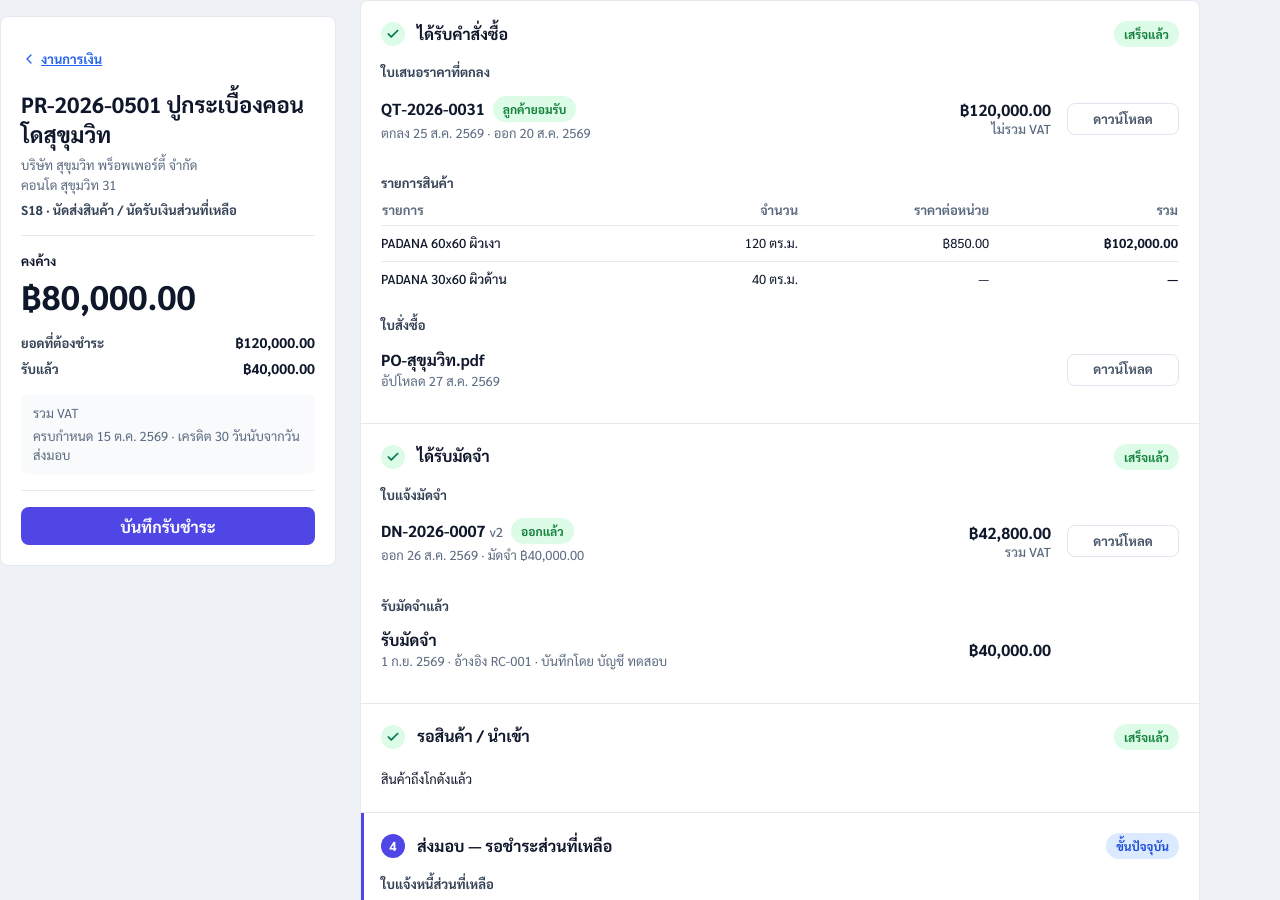
Test: FinanceDealPage › money actions › RECORD_PAYMENT submits the right body to api.finance.recordPayment and the view updates from the returned deal
Step 1. Click the button "บันทึกรับชำระ" → (168, 526), box [21, 507, 315, 545]
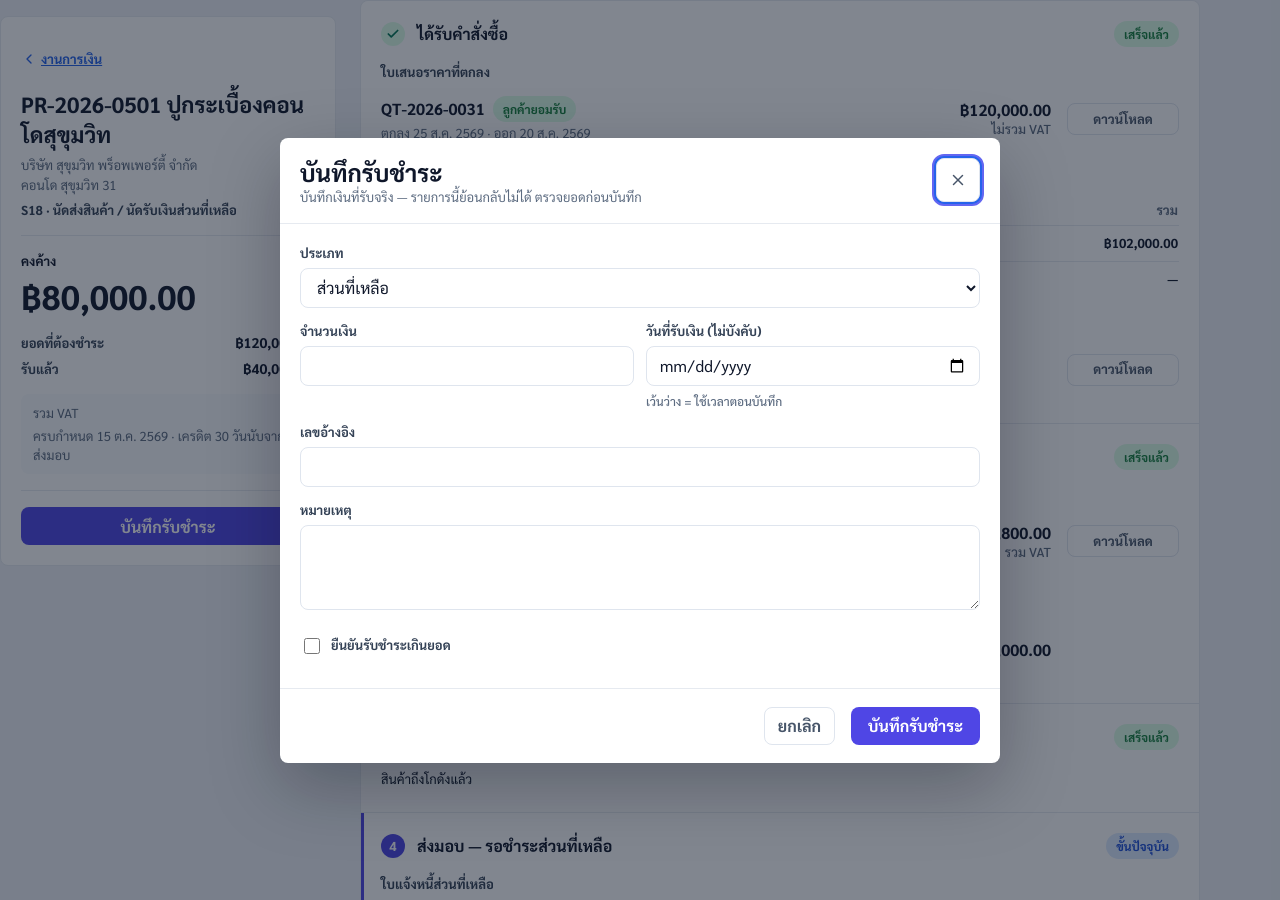
Step 2. Select "ส่วนที่เหลือ" in the dropdown labelled "ประเภท" → (640, 288), box [300, 268, 980, 308]
Step 3. Type "60000" into the number field labelled "จำนวนเงิน" → (467, 366), box [300, 346, 634, 386]
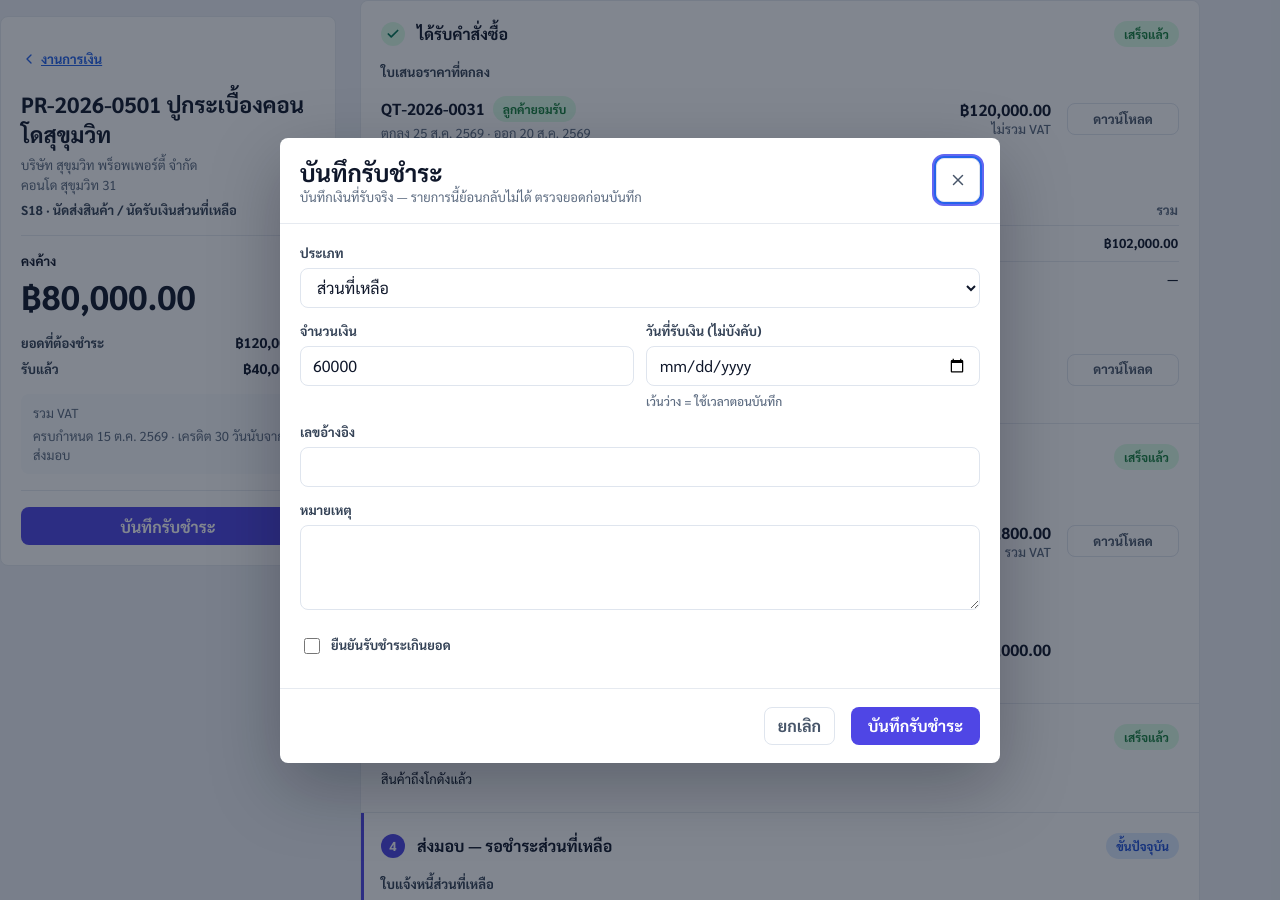
Step 4. Type " RC-999 " into the field labelled "เลขอ้างอิง" → (640, 466), box [300, 446, 980, 486]
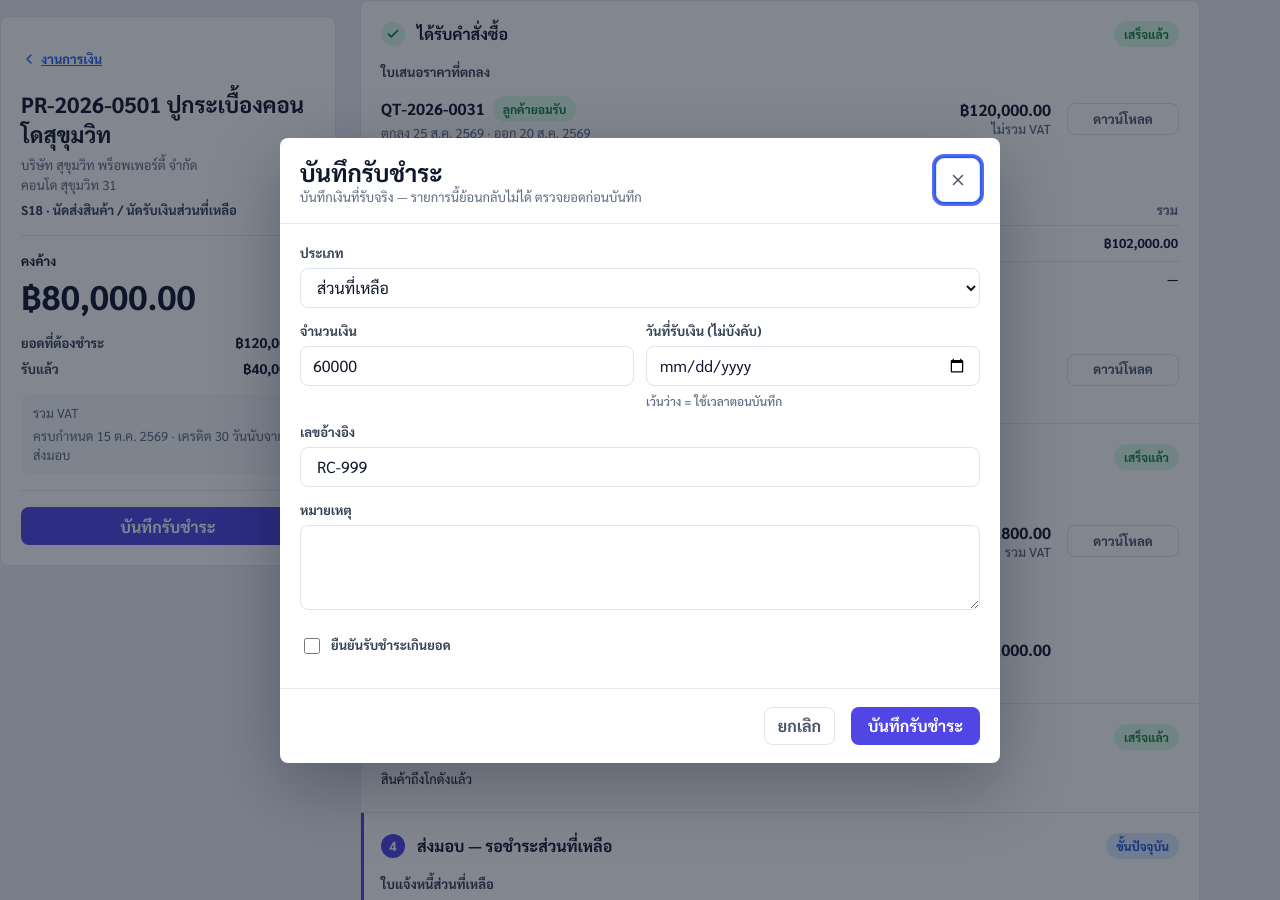
Step 5. Type "โอนเข้าบัญชี" into the text box labelled "หมายเหตุ" → (640, 567), box [300, 524, 980, 610]
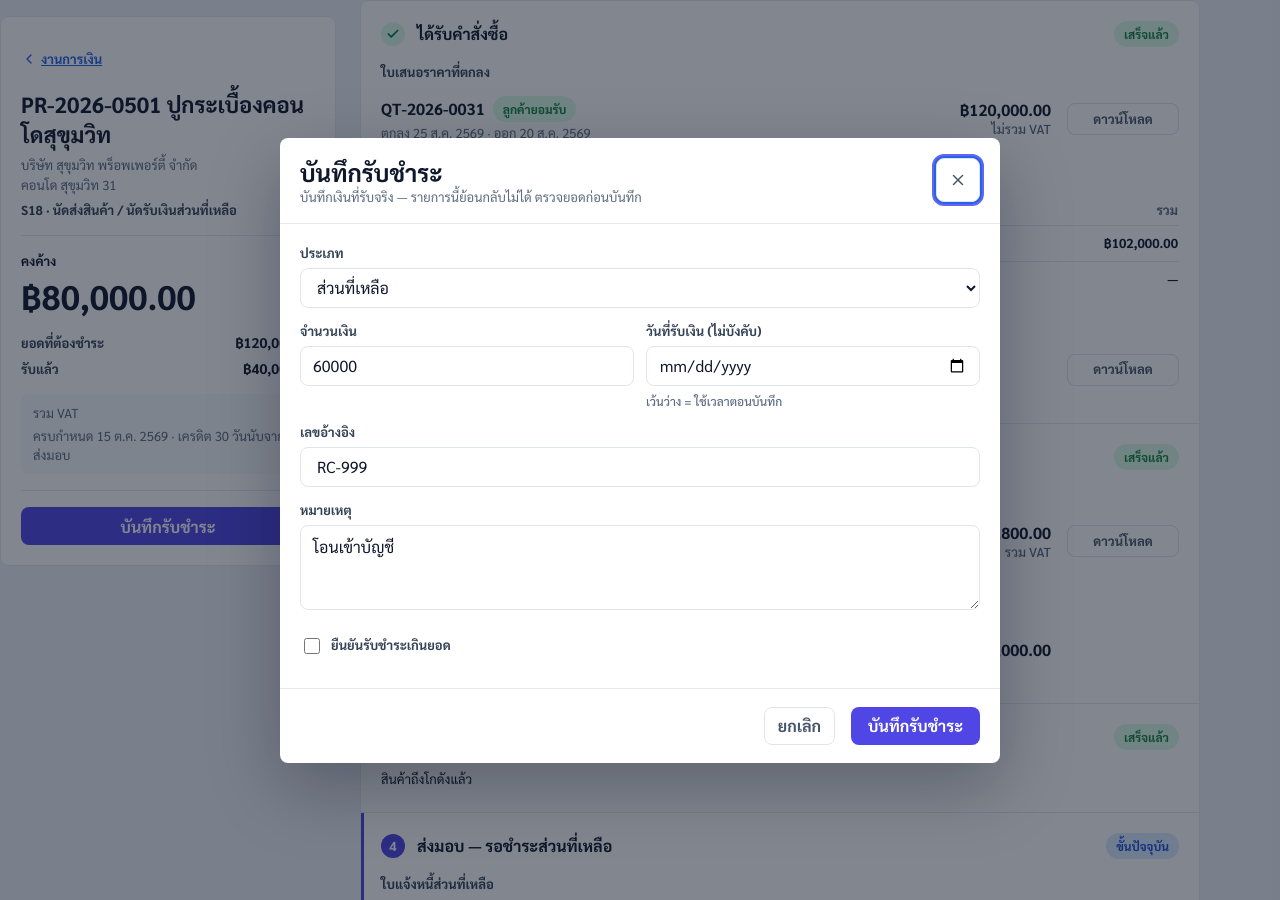
Step 6. Click the button "บันทึกรับชำระ" → (916, 726), box [851, 706, 980, 744]
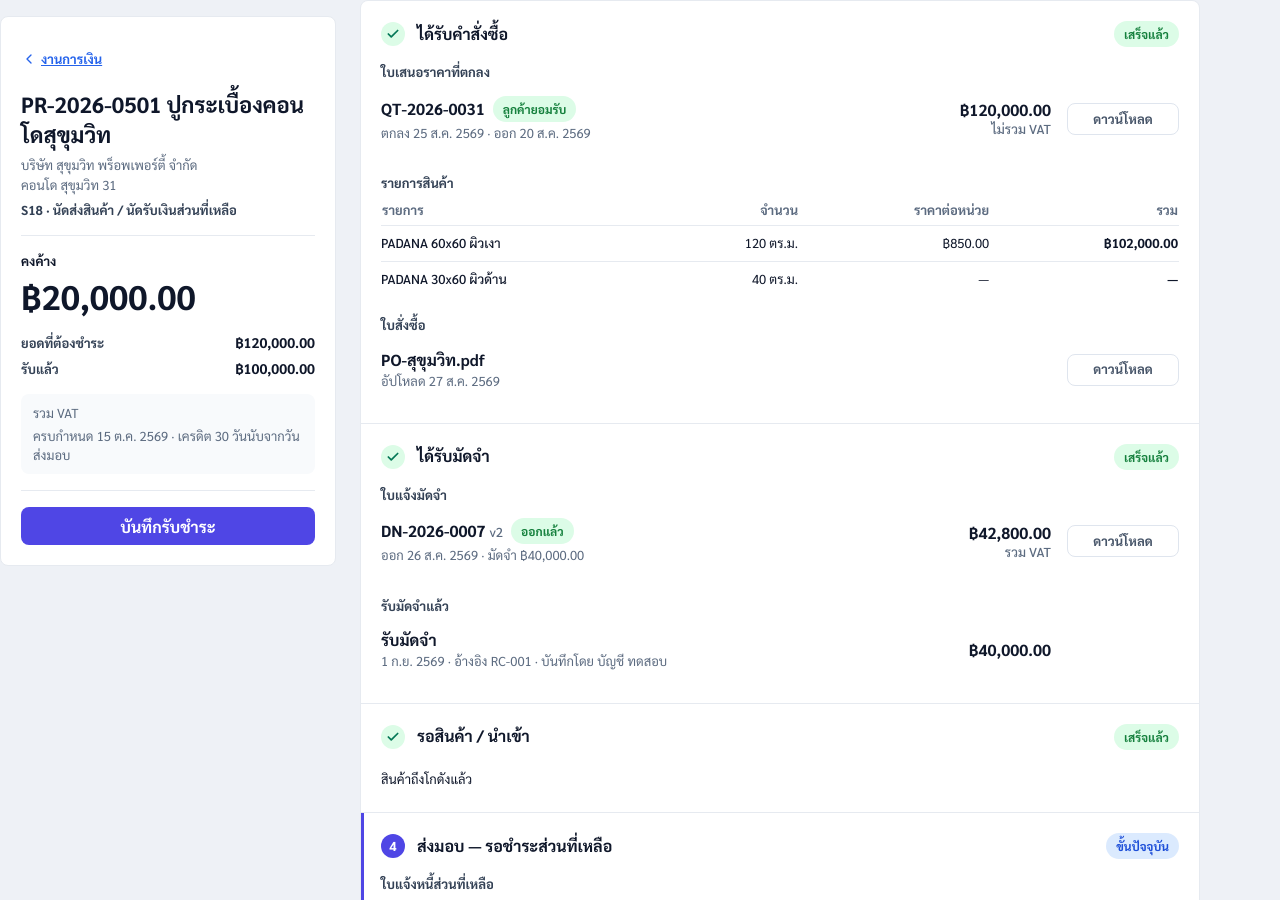
expect the text "฿20,000.00" is shown: met, box [21, 274, 196, 318]
expect the dialog is gone: met
